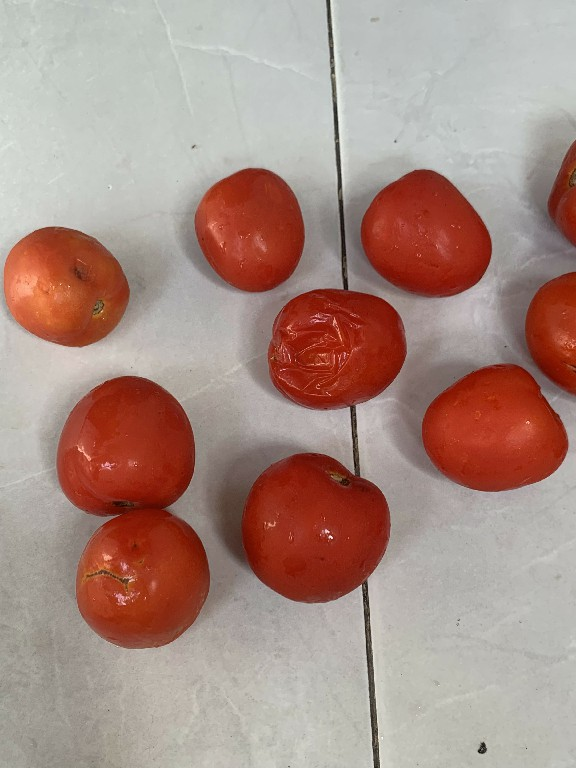NG: (69, 512, 218, 653), (0, 221, 136, 348), (268, 285, 406, 408)
OK: (233, 448, 397, 609), (415, 356, 575, 504), (51, 372, 205, 511), (356, 161, 499, 305), (191, 168, 306, 294)
